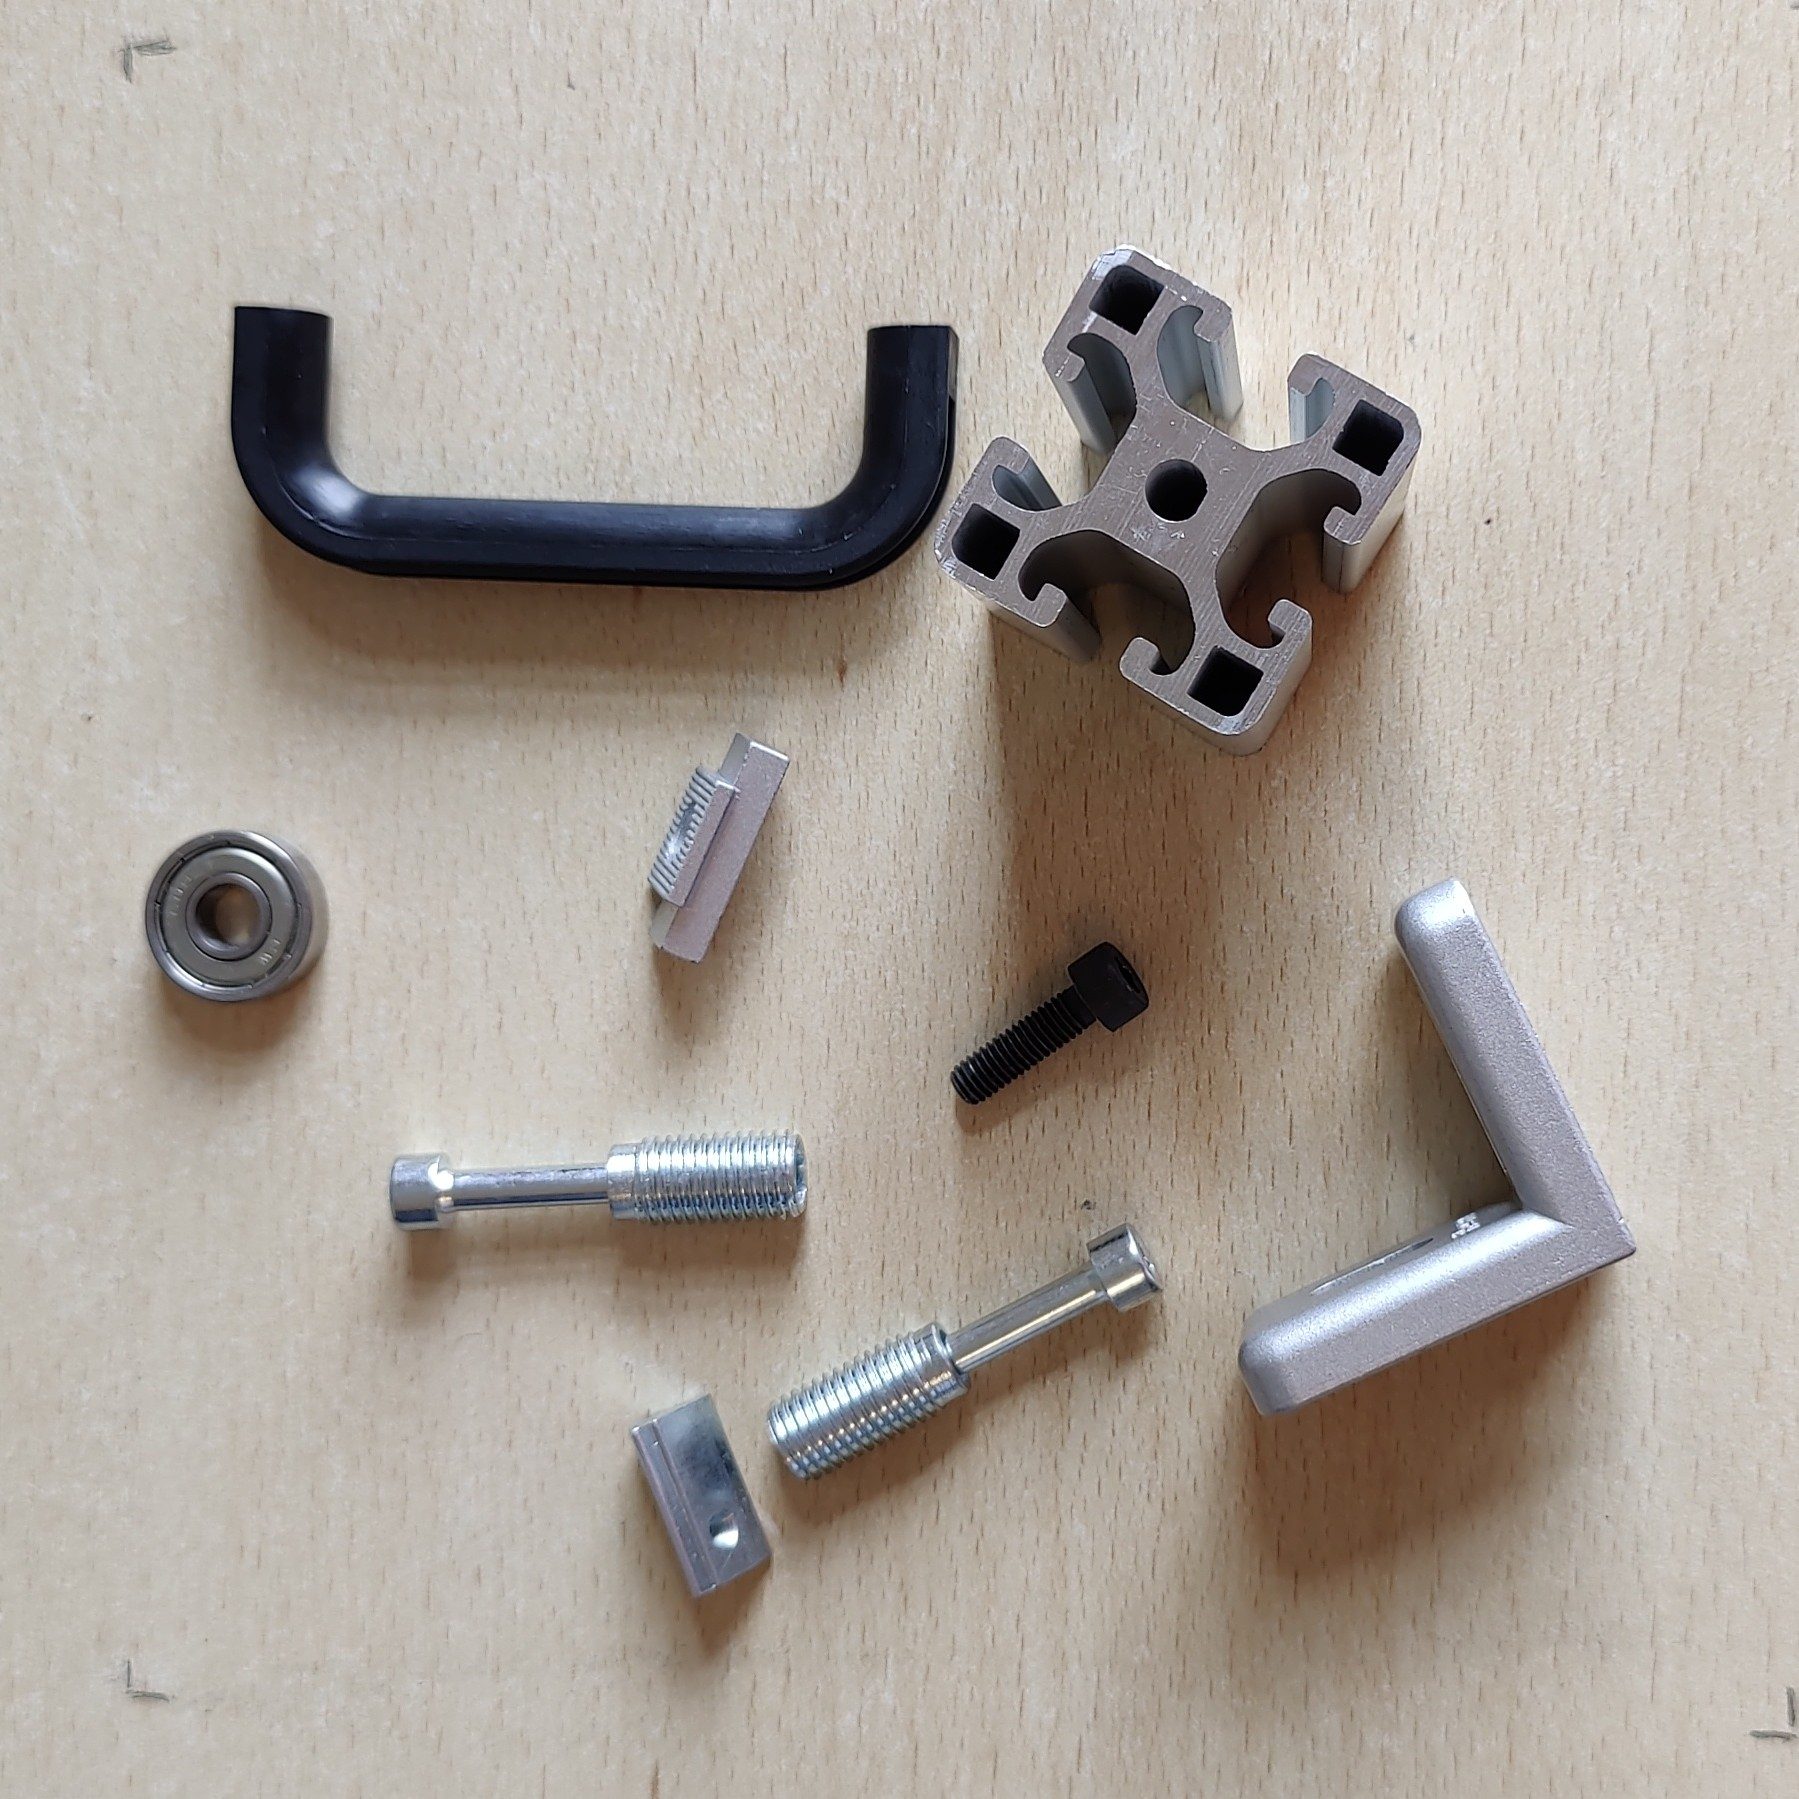Aluminium Extension: (931, 242, 1423, 758)
Ball Bearing: (142, 825, 331, 1007)
Multiwinkel: (1234, 873, 1639, 1418)
Pull Handle: (231, 300, 962, 596)
Shoulder Socket Head Cap Screw: (764, 1219, 1168, 1484), (389, 1125, 811, 1237)
Socket Head Cap Screw: (946, 937, 1153, 1109)
T Nut Square: (642, 722, 791, 967)
T Spring Nut: (628, 1390, 774, 1601)
